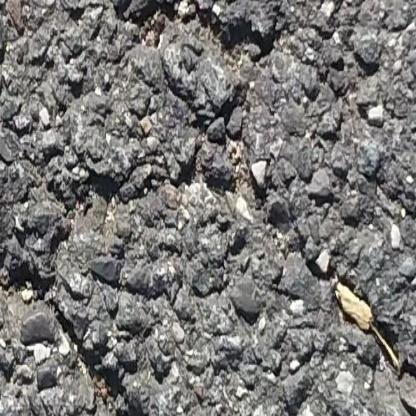Cracks: (56, 127, 316, 266), (0, 243, 157, 416), (134, 0, 274, 97), (399, 374, 416, 416)
